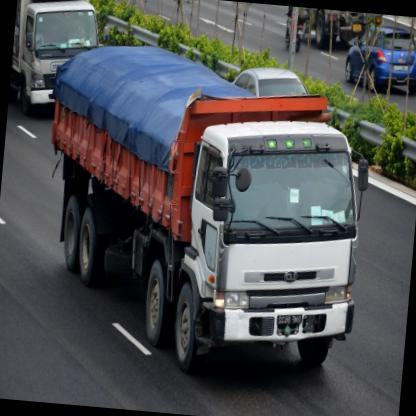truck: (170, 108, 371, 391)
